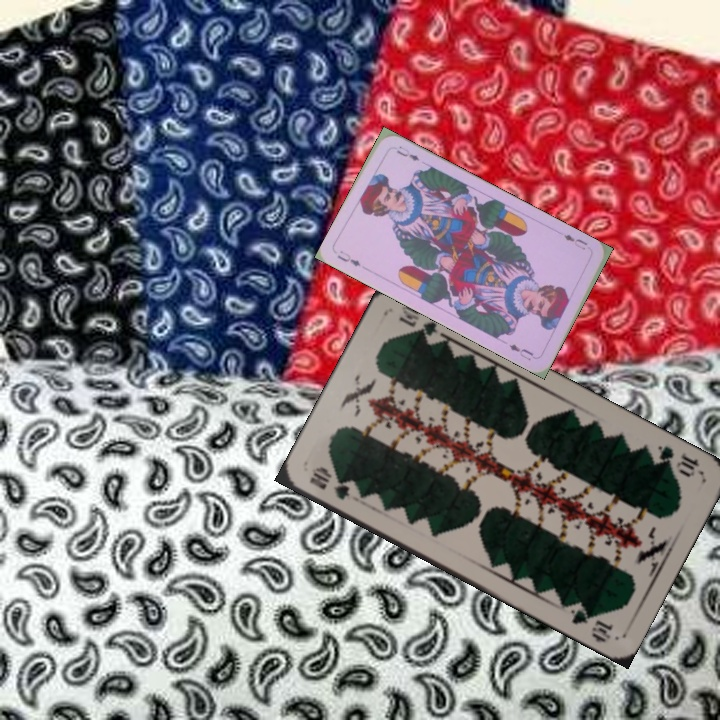EU: (333, 246, 363, 269), (560, 230, 590, 252)
G10: (653, 441, 703, 480), (305, 463, 353, 503)
